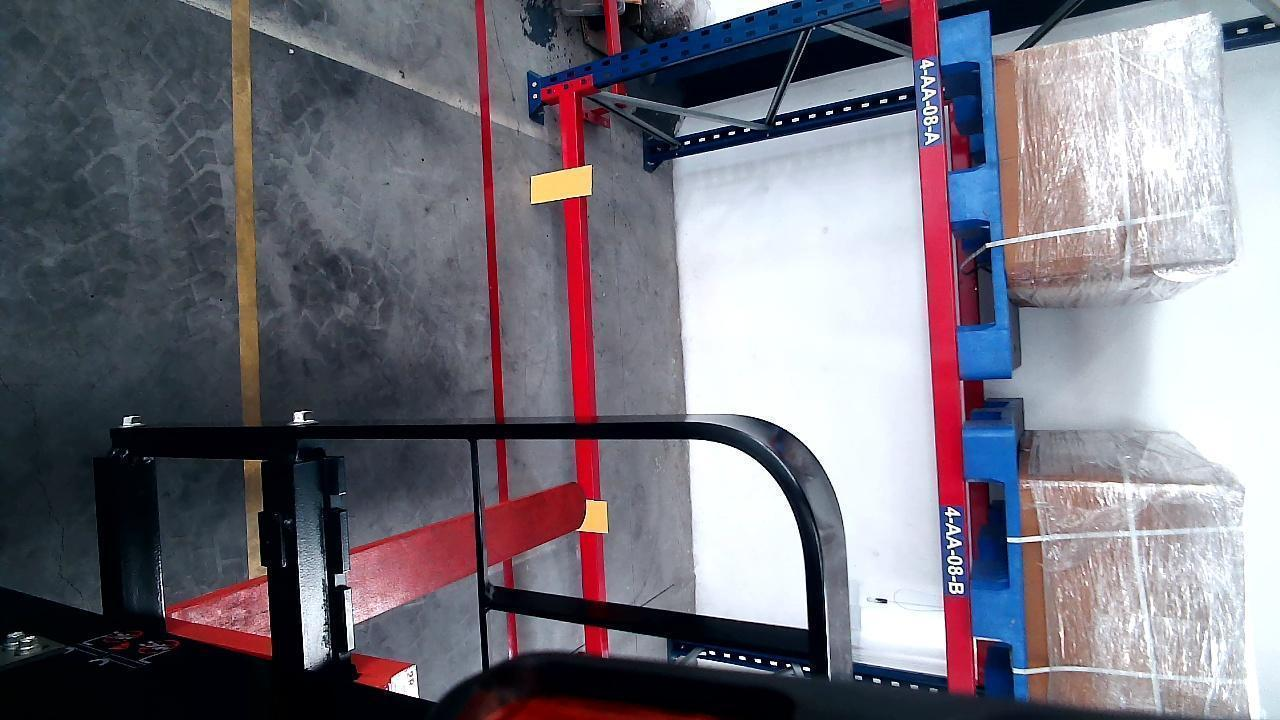red_line: (477, 0, 504, 428)
yellow_line: (233, 0, 259, 413)
